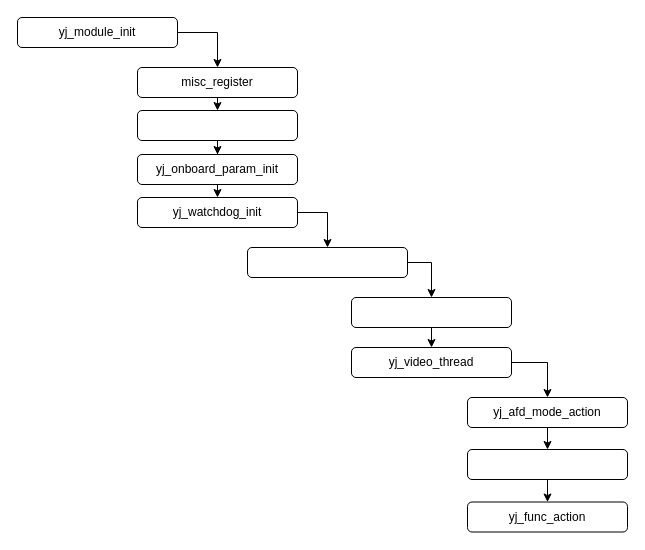
The diagram is 645 pixels wide and 550 high, and some of its shapes have lost their labels. The centre of each missing label's shape, as x and y in pixels:
"CMPI_CreateProc" goes at (x=217, y=125).
"yj_dec_mode_action" goes at (x=547, y=464).
"yj_init_all" goes at (x=431, y=312).
"yj_watchdog_deamon" goes at (x=327, y=262).
